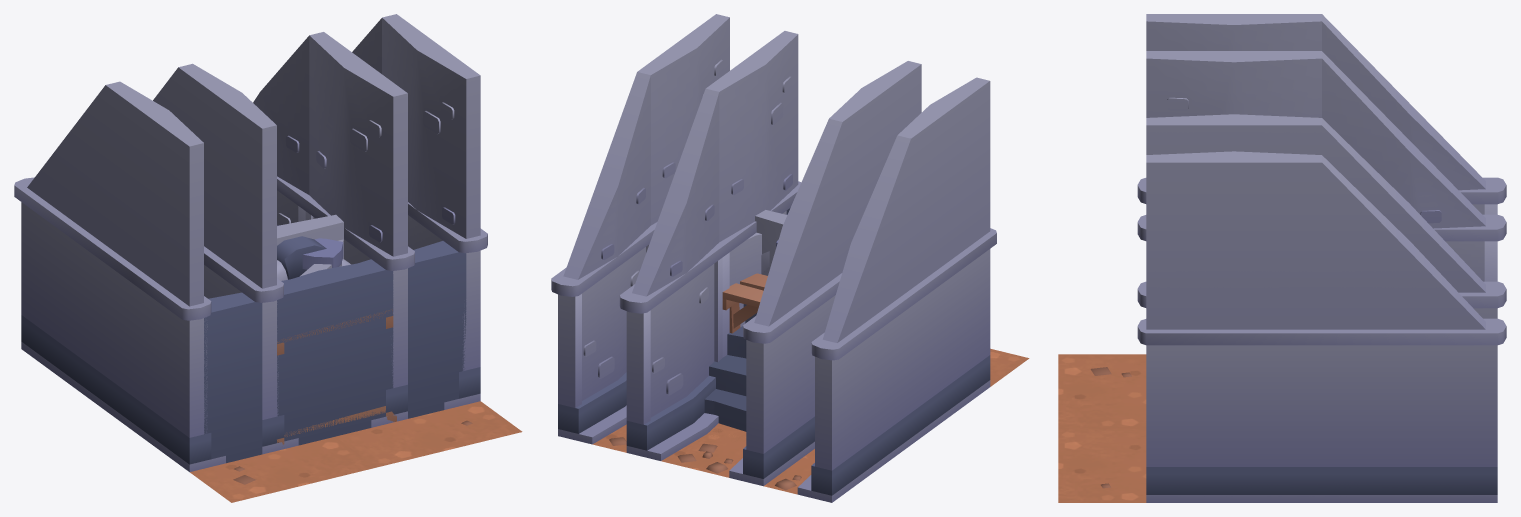
The model's file is dungeon.glb.
3 renders of one model, left to right at view 1: azimuth 30°, elevation 25°; view 2: azimuth 150°, elevation 25°; view 3: azimuth 270°, elevation 25°, orthographic. The views are drawn at different scales.
Visible parts, largest first — view 1: stairs-wide, stairs, template-floor-big, gate-door-window, template-wall-top, template-corner, template-floor-layer; view 2: stairs-wide, stairs, template-corner, template-floor-layer-hole, template-floor-big, template-wall-top; view 3: stairs-wide, stairs, template-floor-big.
Part boxes in pixels (x1,y1,x2,y2): stairs-wide: [14, 14, 487, 472]; stairs: [153, 32, 414, 454]; template-floor-big: [190, 401, 522, 502]; gate-door-window: [277, 236, 350, 280]; template-wall-top: [277, 214, 343, 248]; template-corner: [300, 217, 343, 276]; template-floor-layer: [277, 406, 396, 444]; stairs-wide: [551, 14, 996, 502]; stairs: [619, 31, 921, 486]; template-corner: [722, 214, 787, 357]; template-floor-layer-hole: [722, 283, 763, 333]; template-floor-big: [708, 348, 1029, 459]; template-wall-top: [755, 210, 787, 275]; stairs-wide: [1137, 14, 1506, 502]; stairs: [1137, 51, 1506, 318]; template-floor-big: [1058, 354, 1146, 502].
Size of the model in its own units: 8.4 by 8.55 by 10.2.
1 material, 1 textured.
